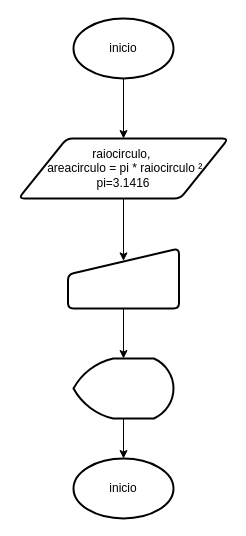
This 246x536 diagram has some shape labels left out. The box of each missing label's shape, as (x1, y1, x2, y2) in pixels:
areacirculo: (72, 357, 174, 419)
raiocirculo: (66, 247, 180, 309)
